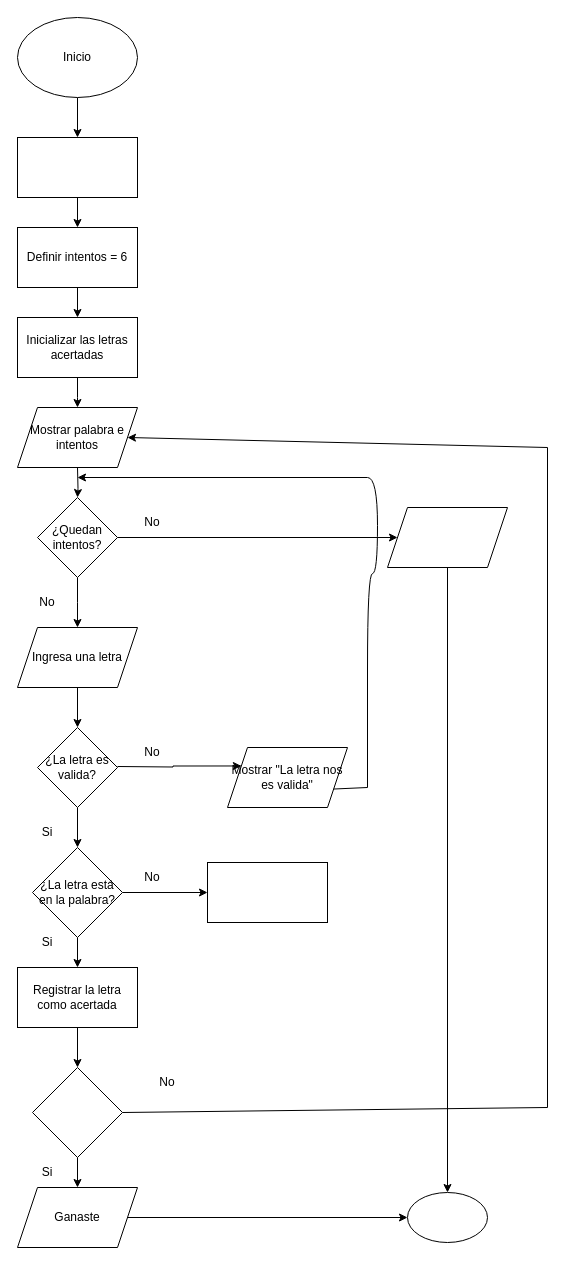
Image size: 573x1265. Some labels were removed from this diagram. Here are the shapes that lost their labels. From the top down, the box of each, then its label:
(16, 136, 138, 198): Definir palabra secreta
(386, 506, 508, 568): Perdiste La palabra era:___
(206, 862, 328, 922): Restar 1 intento
(32, 1066, 122, 1158): ¿Se completó la palabra?
(406, 1192, 488, 1242): Fin
